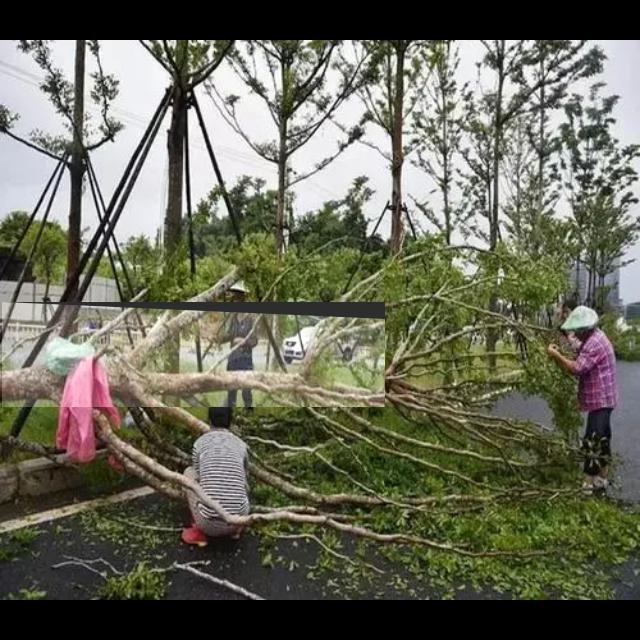Fallen Tree: (2, 302, 386, 408)
